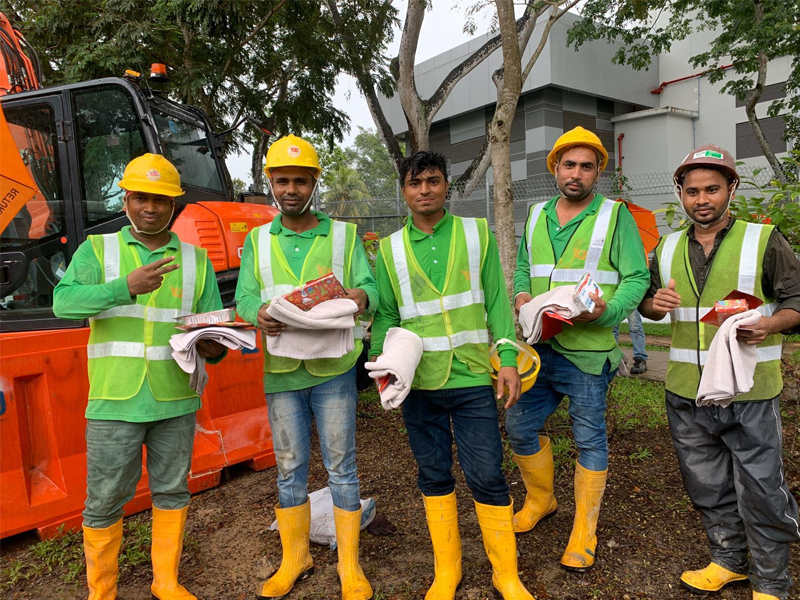No Safety Helmet: (391, 145, 458, 225)
Safety Helmet: (110, 145, 182, 242), (667, 141, 744, 231), (539, 117, 610, 209), (259, 129, 326, 222)
